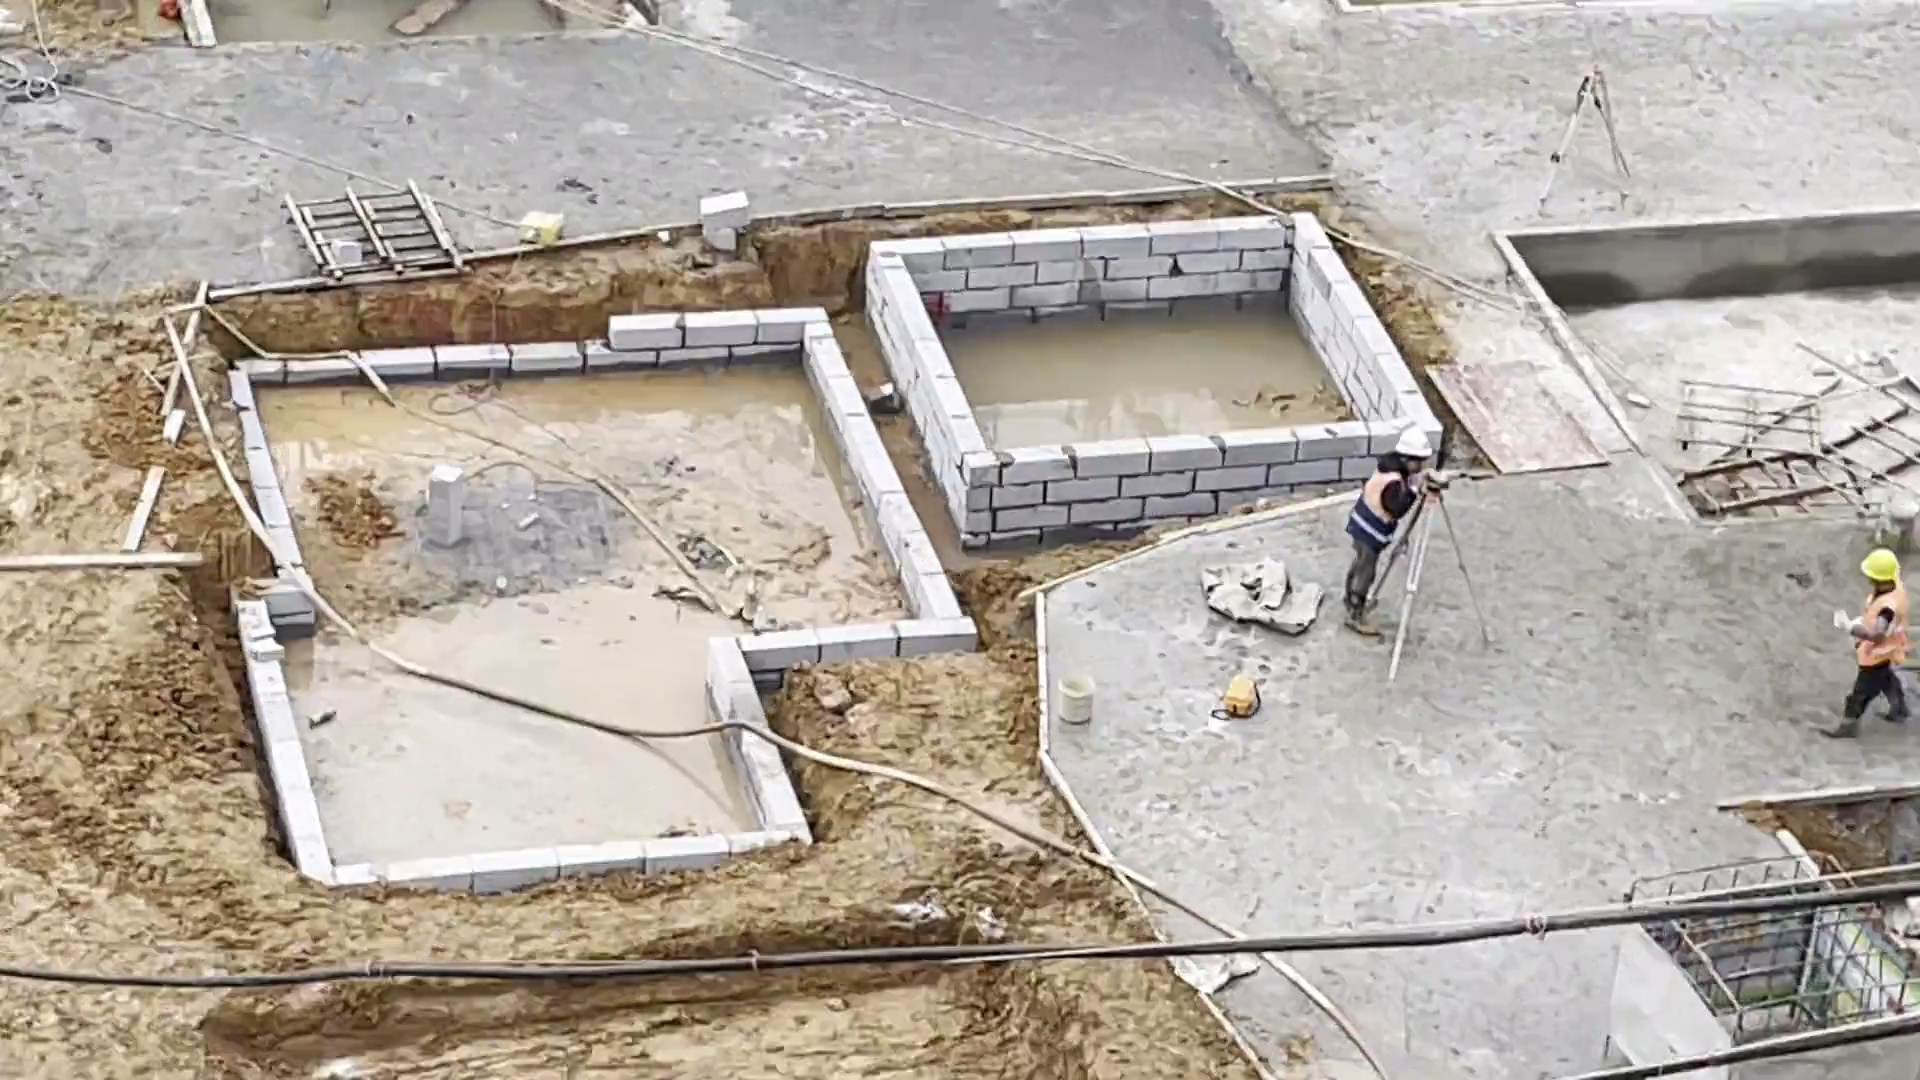brick: (257, 313, 797, 381), (959, 430, 1398, 513), (942, 214, 1278, 313), (1297, 222, 1417, 429), (707, 646, 803, 840), (267, 722, 333, 885), (931, 360, 990, 530), (873, 236, 935, 392), (748, 616, 956, 660), (806, 317, 863, 447), (858, 434, 913, 558), (476, 842, 629, 886), (227, 376, 269, 481), (233, 576, 307, 635), (246, 634, 293, 723), (258, 486, 302, 575), (635, 833, 788, 857), (337, 863, 473, 888), (912, 539, 955, 618)
helmet: (1857, 548, 1897, 581), (1393, 425, 1432, 458)
person: (1342, 421, 1427, 640), (1828, 548, 1904, 740)
vest: (1855, 588, 1893, 663), (1352, 467, 1390, 536)
